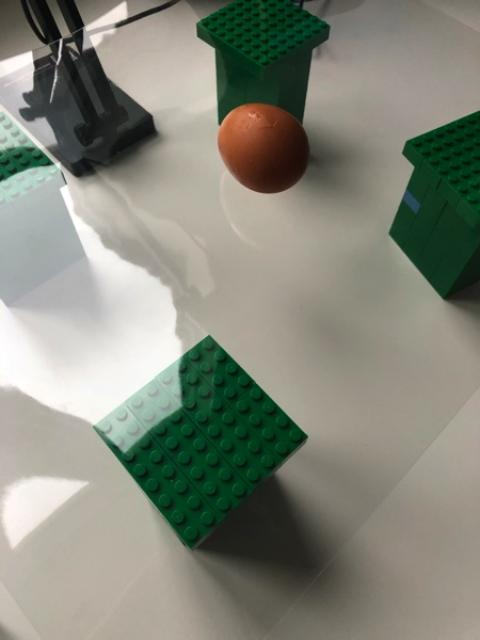Roto: (215, 101, 309, 194)
